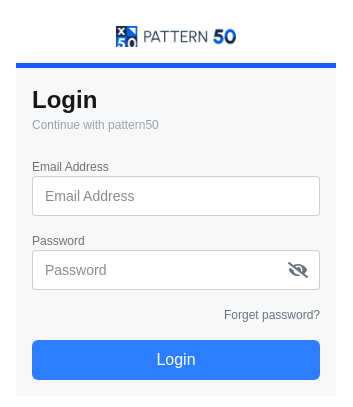
Test: Login Page Component › shows an error when an invalid email format is typed
Type "invalidemail" into the field with placeholder "Email Address" at (176, 196), box x1=32 y1=176 x2=320 y2=216
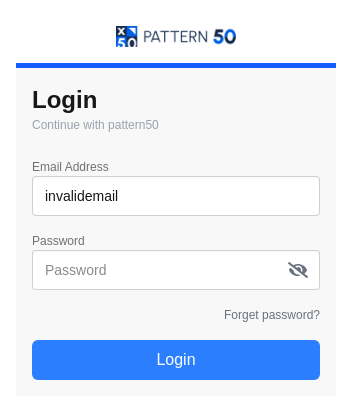
Type "password123" into the password field with placeholder "Password" at (176, 270), box x1=32 y1=250 x2=320 y2=290
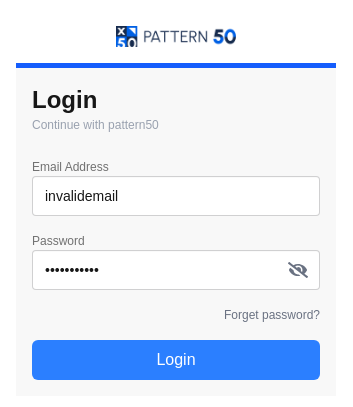
Click the button "Login" at (176, 360), box x1=32 y1=340 x2=320 y2=380
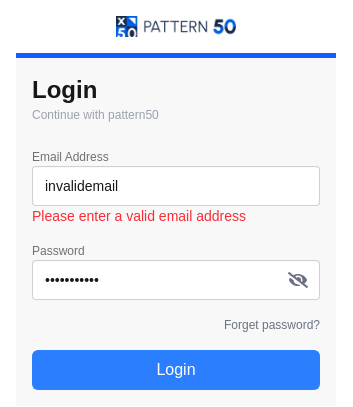
Check: the text "Please enter a valid email address" is shown, box x1=32 y1=208 x2=246 y2=224
